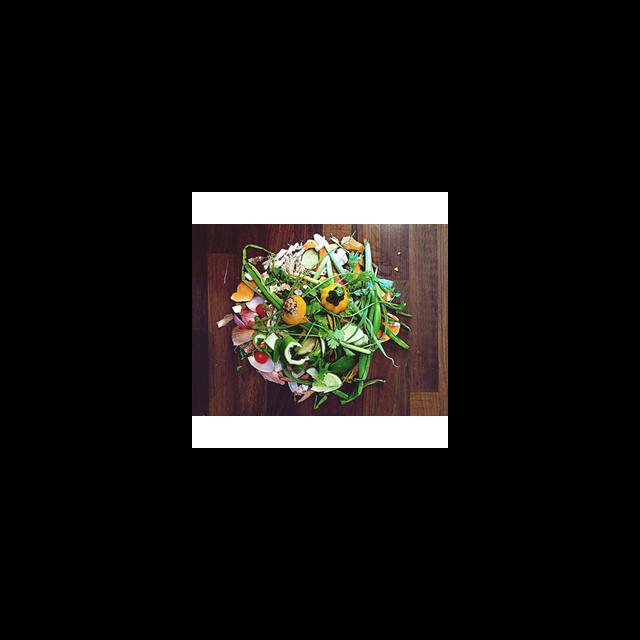food_waste: (315, 273, 356, 314), (222, 306, 266, 344), (331, 315, 367, 361), (276, 294, 312, 337), (309, 357, 346, 391), (269, 258, 304, 289), (234, 276, 269, 306), (282, 340, 313, 371), (294, 245, 326, 269), (245, 344, 271, 367)
